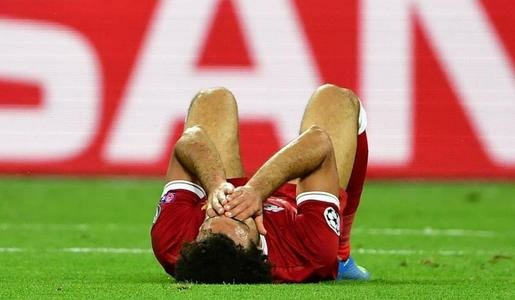falling: (135, 72, 383, 283)
